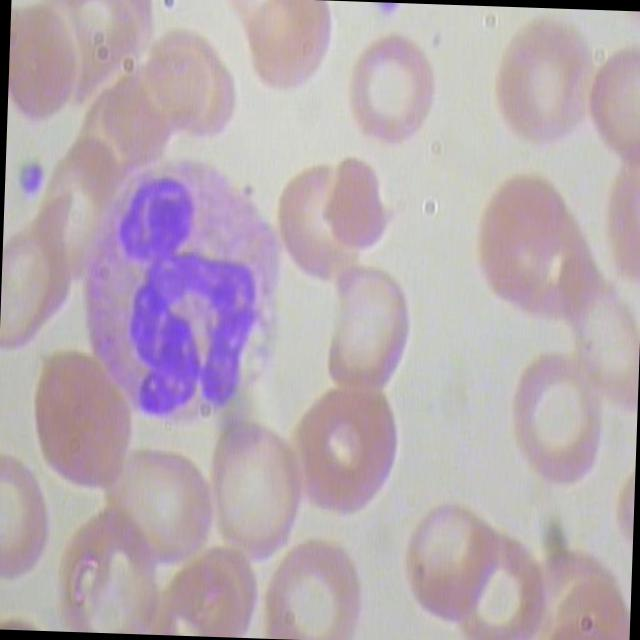Platelets: (12, 162, 47, 202)
RBC: (284, 382, 404, 528), (23, 351, 143, 496), (98, 436, 220, 570), (502, 348, 610, 494), (396, 490, 504, 636), (488, 18, 596, 164), (204, 424, 306, 568), (324, 266, 420, 413), (270, 156, 366, 303), (337, 30, 445, 159), (235, 0, 337, 111), (262, 537, 365, 640), (7, 0, 84, 123), (0, 453, 56, 594), (322, 151, 395, 256)
WBC: (72, 157, 286, 434)
